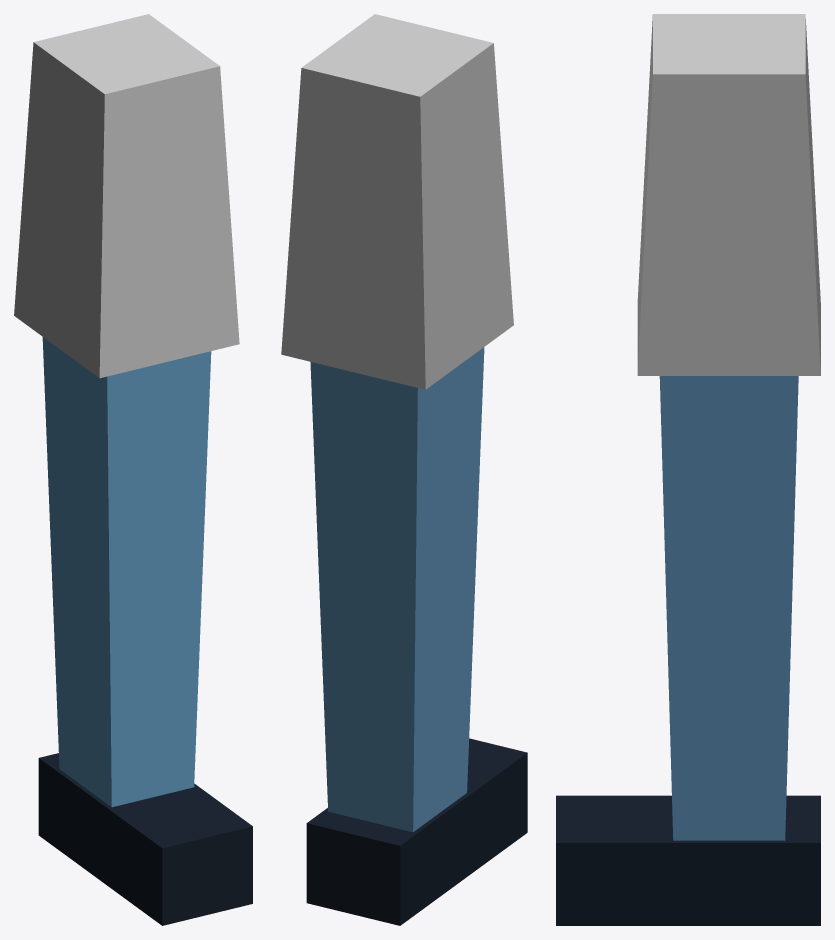
The model's file is leg_k24.glb.
3 renders of one model, left to right at view 1: azimuth 30°, elevation 25°; view 2: azimuth 150°, elevation 25°; view 3: azimuth 270°, elevation 25°, orthographic. The views are drawn at different scales.
Parts seen in each view (by area): view 1: leg_kit; view 2: leg_kit; view 3: leg_kit.
Boxes of the visible parts, x1,y1,x2,y2 form: leg_kit: (14,14,252,925); leg_kit: (281,14,527,925); leg_kit: (556,14,820,925).
Bounding box in the file's own units: 0.17 × 0.93 × 0.26.
